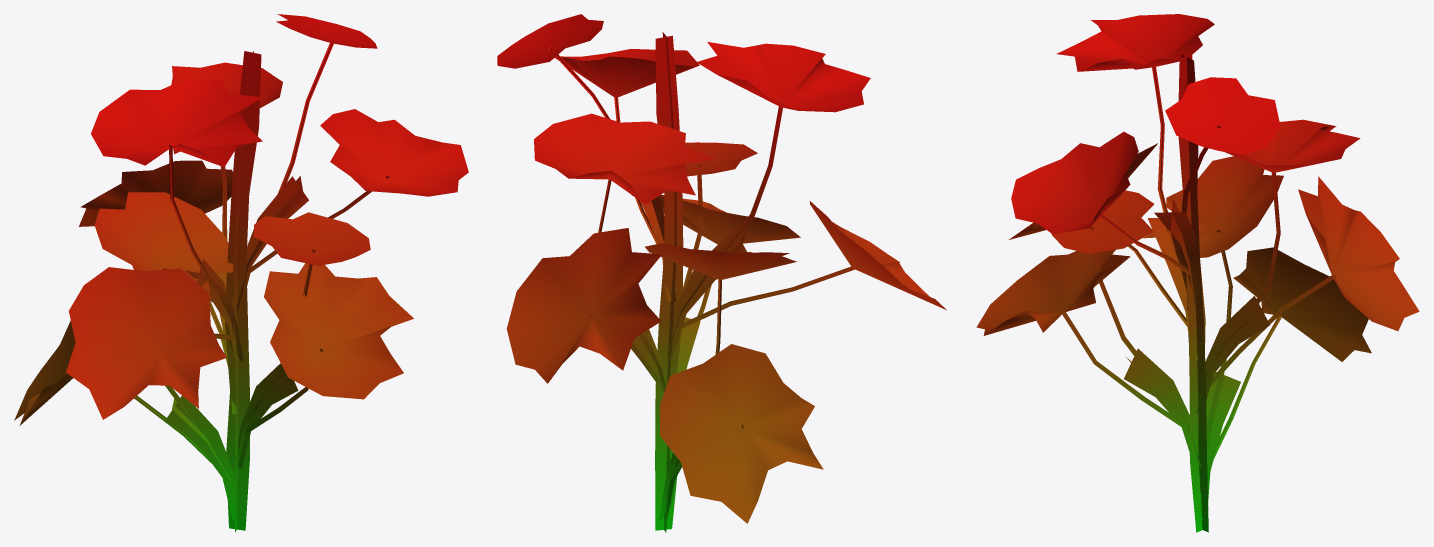
Rendered from Var4_LOD1.fbx.
3 views of the same model, side by side, from view 1: azimuth 30°, elevation 25°; view 2: azimuth 150°, elevation 25°; view 3: azimuth 270°, elevation 25° (orthographic).
Parts seen in each view (by area): view 1: _f5f9_Var4_LOD1; view 2: _f5f9_Var4_LOD1; view 3: _f5f9_Var4_LOD1.
Boxes of the visible parts, x1,y1,x2,y2 form: _f5f9_Var4_LOD1: [14, 14, 468, 532]; _f5f9_Var4_LOD1: [497, 14, 946, 532]; _f5f9_Var4_LOD1: [976, 14, 1419, 532].
Size of the model in its own units: 67.23 by 80.97 by 67.66.
